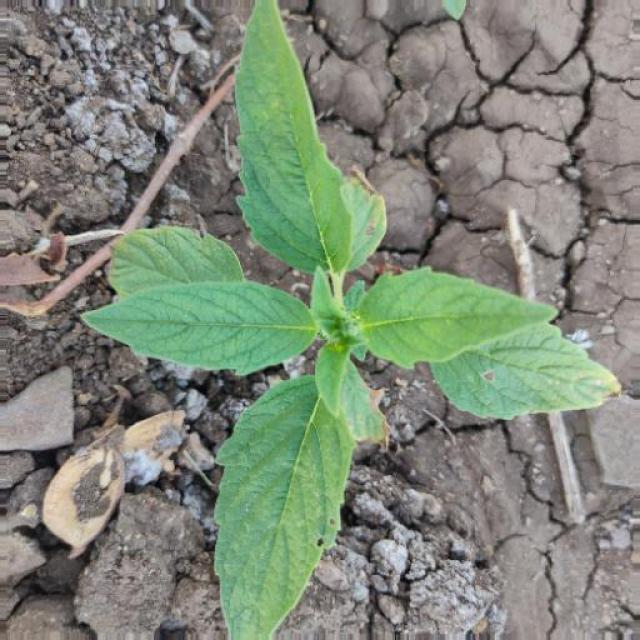crop: (66, 4, 562, 638)
